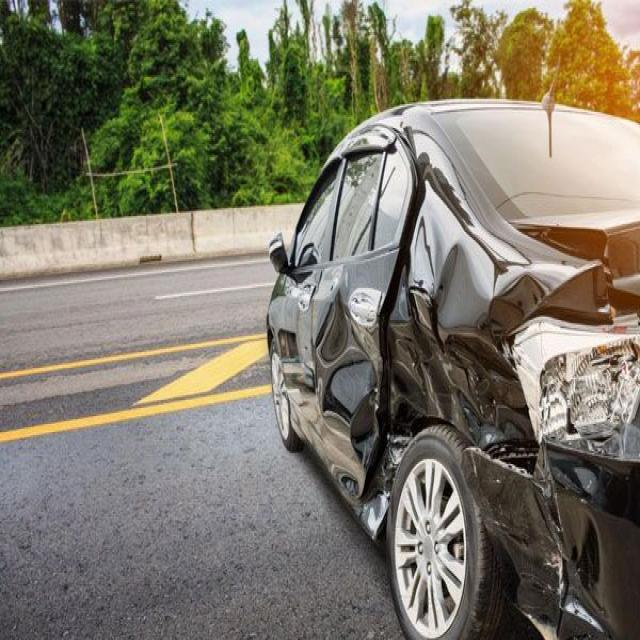Accident: (266, 89, 640, 640)
